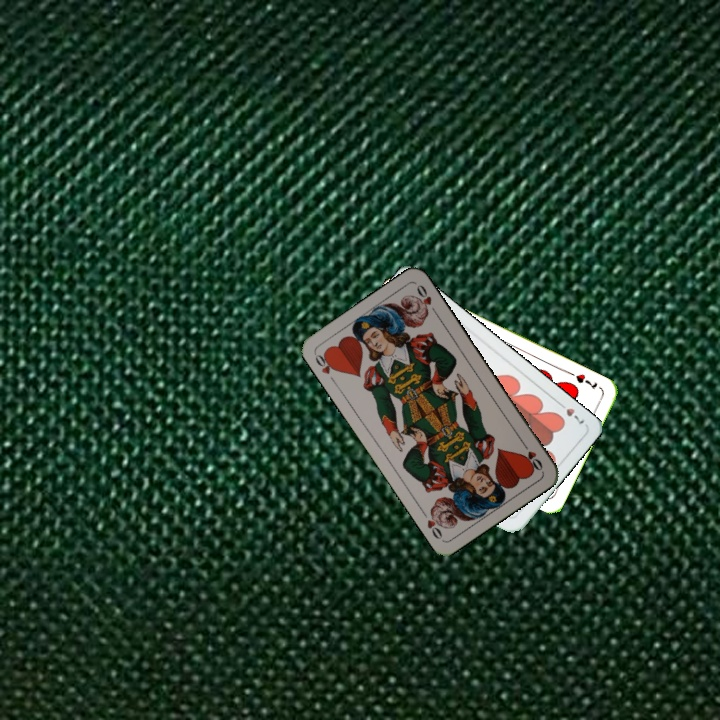H7: (553, 397, 587, 427), (572, 370, 600, 393)
HO: (311, 348, 340, 386), (518, 438, 545, 473)
